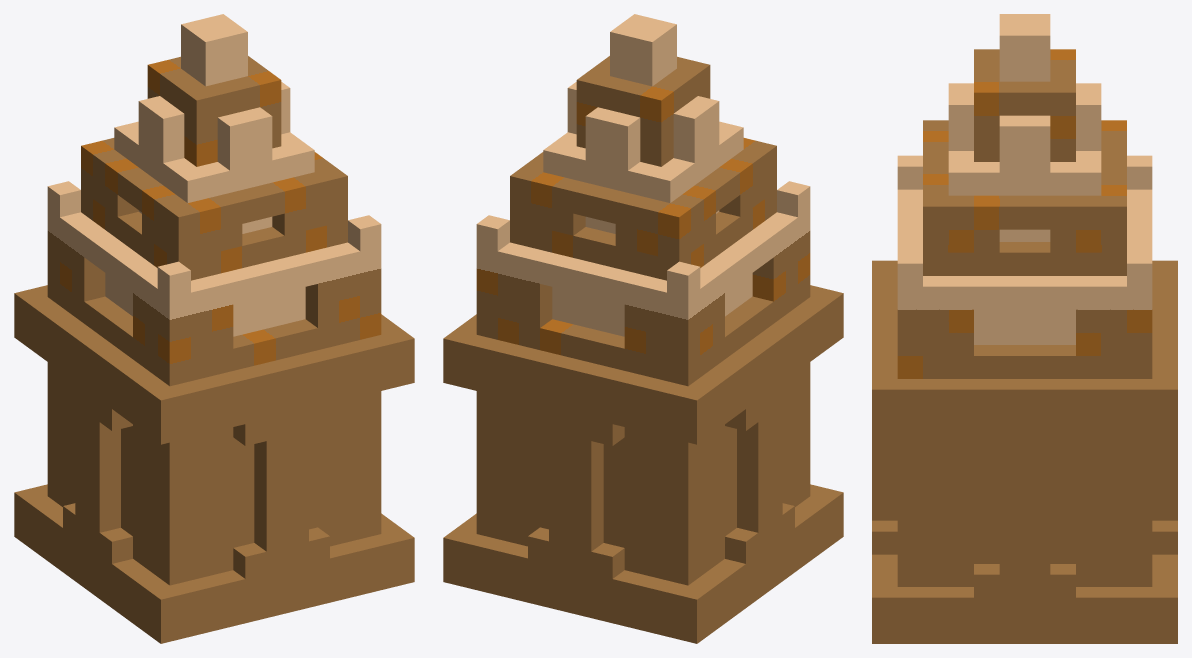
File: tower1.fbx
3 views of the same model, side by side, from view 1: azimuth 30°, elevation 25°; view 2: azimuth 150°, elevation 25°; view 3: azimuth 270°, elevation 25° (orthographic). The views are drawn at different scales.
Visible parts, largest first — view 1: tower1.layer; view 2: tower1.layer; view 3: tower1.layer.
Part boxes in pixels (x1,y1,x2,y2): tower1.layer: (14,14,414,643); tower1.layer: (443,14,843,643); tower1.layer: (872,14,1177,643).
Bounding box in the file's own units: 120 × 120 × 240.
1 material, 1 textured.
